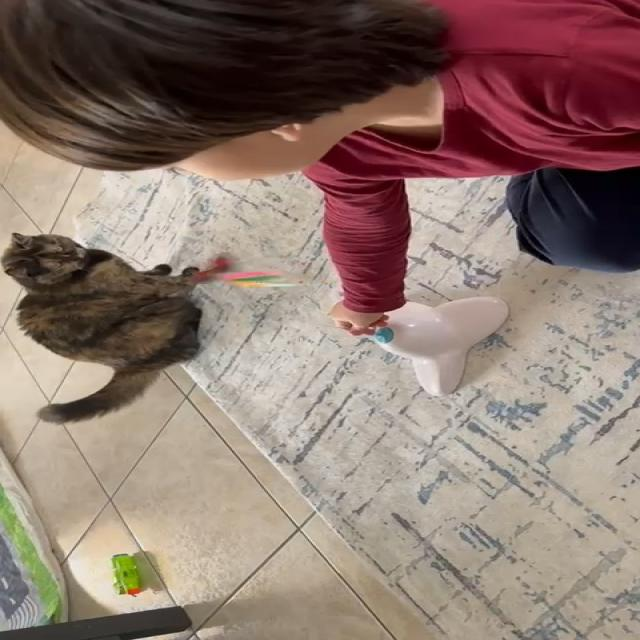authorized: (0, 231, 221, 424)
